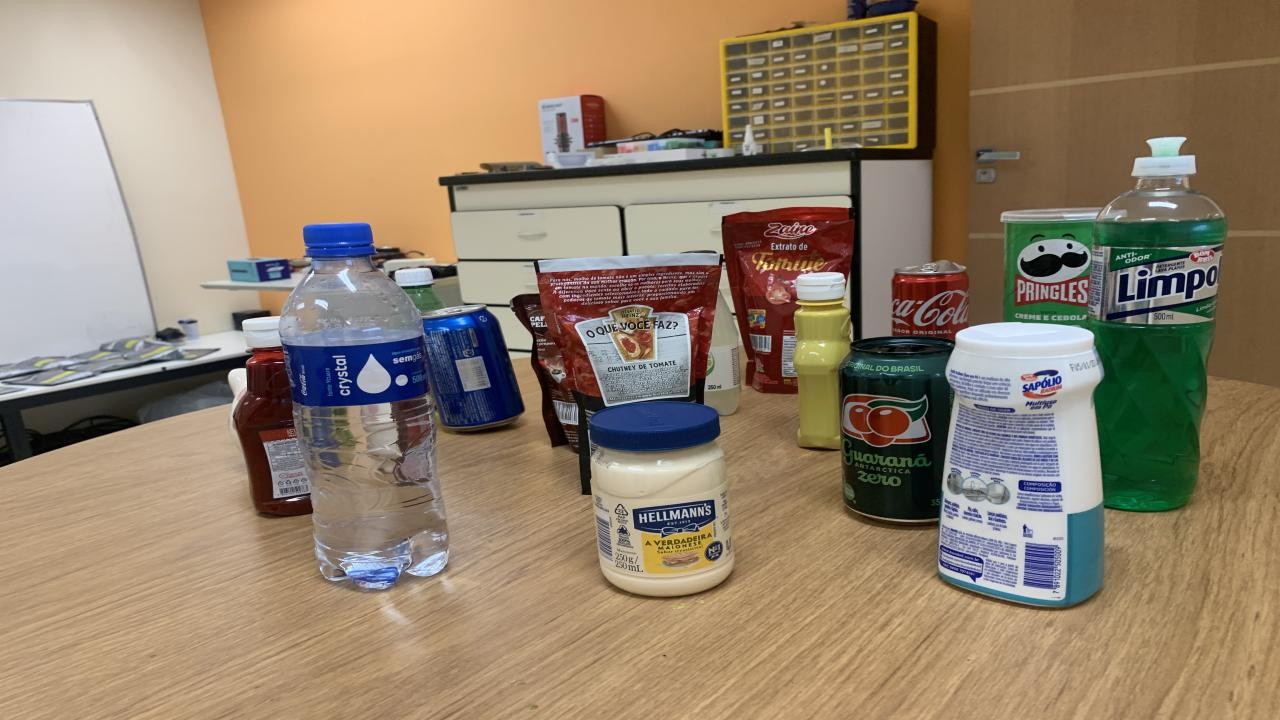Cleaner-Cleanup_Items: (938, 322, 1105, 606)
Coffee-Pantry_Items: (510, 294, 580, 452)
Coke-Drinks: (892, 261, 970, 339)
Detergent-Cleanup_Items: (1088, 137, 1228, 512)
Guarana-Drinks: (395, 266, 445, 313)
Guarana_Can-Drinks: (840, 336, 952, 523)
Ketchup-Pantry_Items: (230, 317, 312, 516)
Mayonnaise-Pantry_Items: (590, 401, 732, 596)
Mustard-Pantry_Items: (792, 272, 850, 450)
Pringles-Snacks: (1000, 208, 1100, 328)
Soda-Drinks: (705, 292, 740, 414)
Tomato_Sauce-Pantry_Items: (535, 253, 722, 484), (722, 206, 855, 394)
Tonic-Drinks: (422, 304, 525, 431)
Water_Bottle-Drinks: (280, 223, 448, 589)
